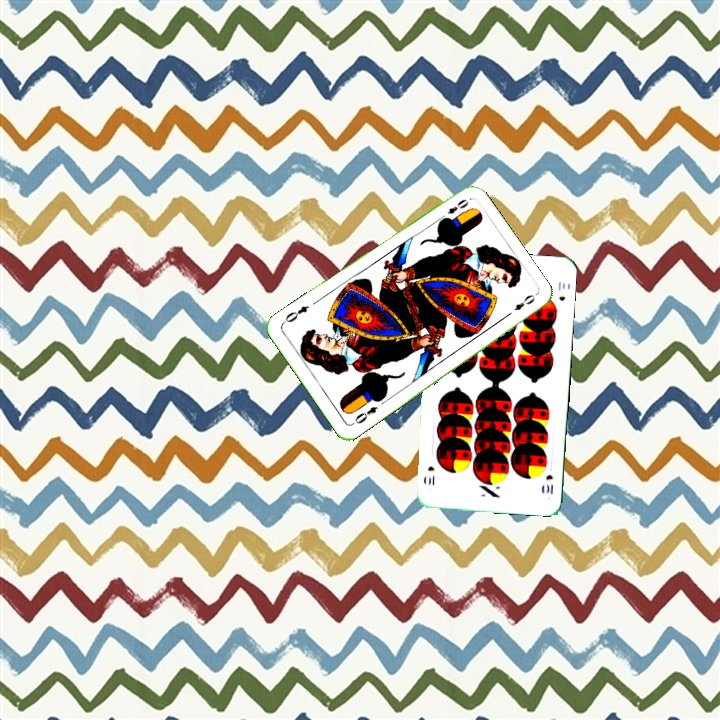EO: (435, 195, 471, 223), (348, 402, 380, 427)
S10: (542, 470, 555, 497)
